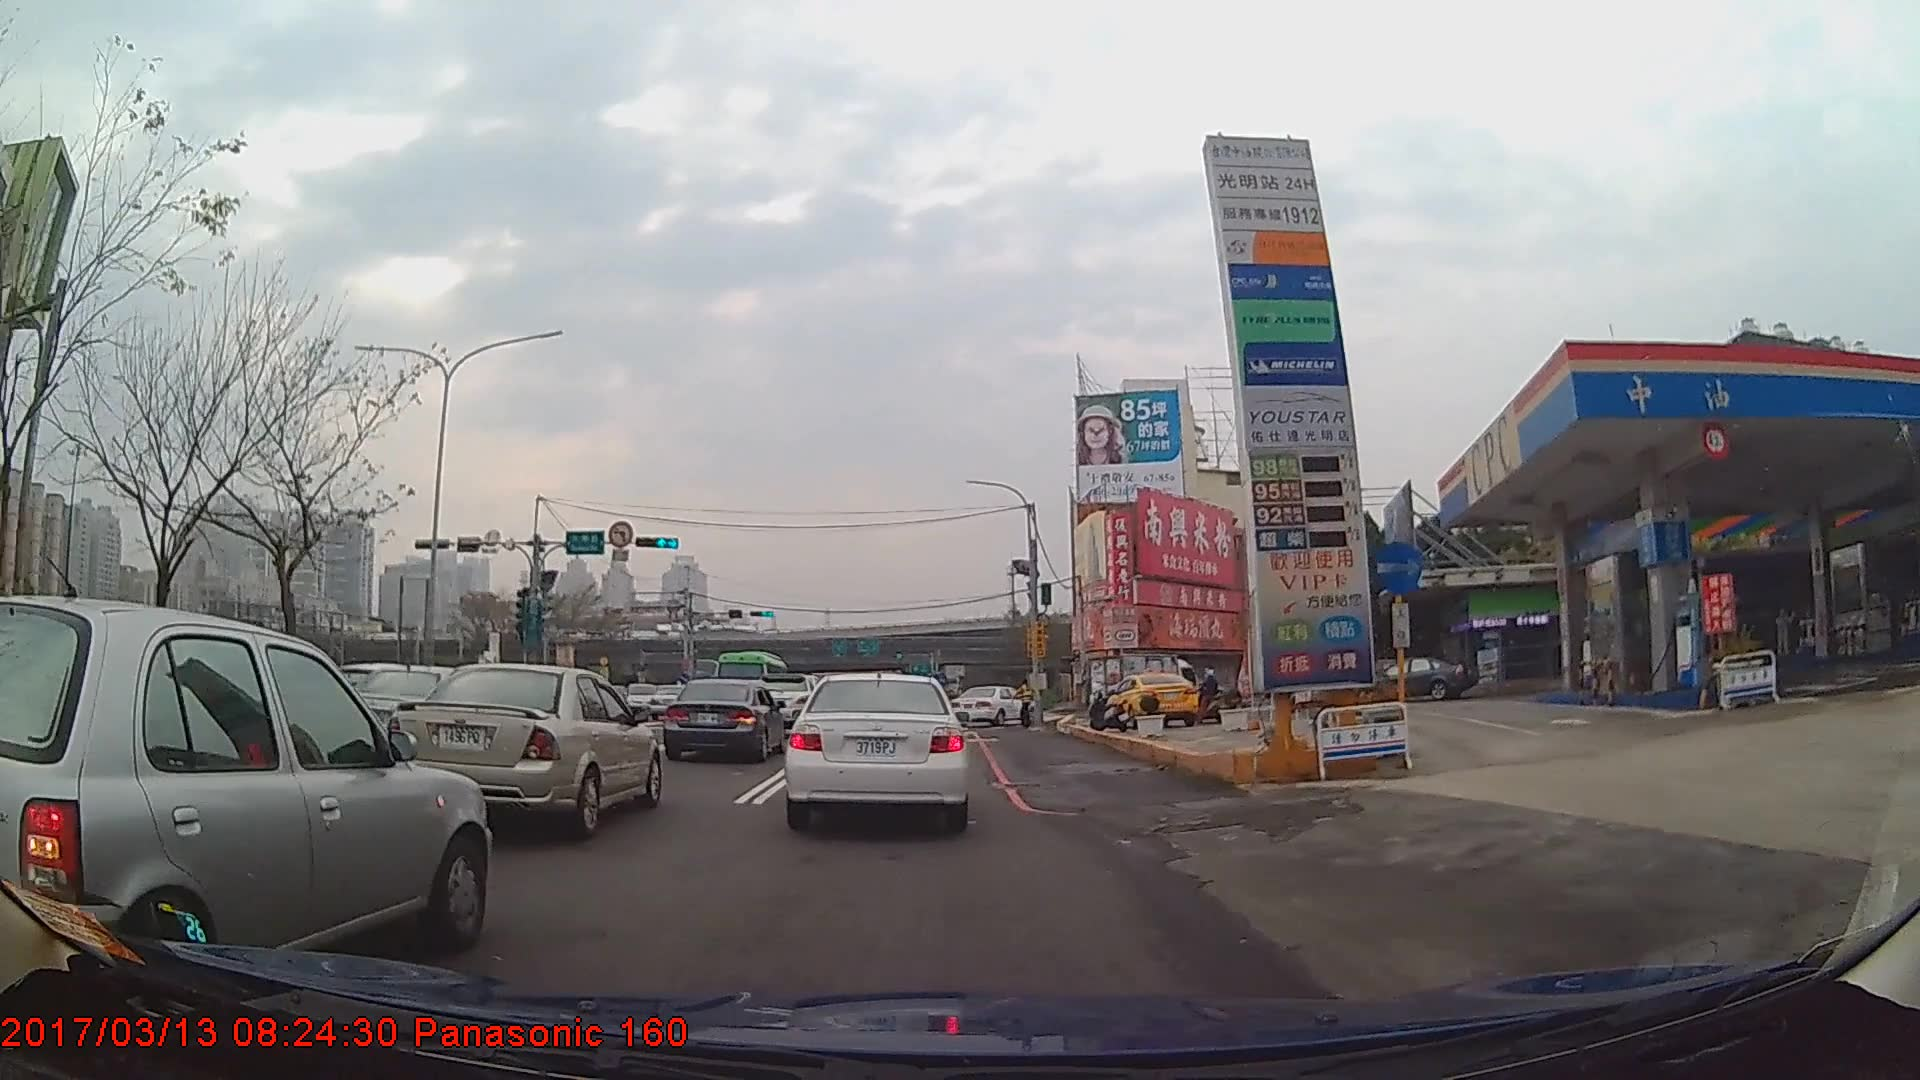rider: (1309, 660, 1348, 721), (1196, 670, 1231, 728)
vehicle: (0, 592, 491, 1001), (388, 663, 663, 836), (789, 670, 964, 830), (659, 677, 788, 766), (1087, 652, 1200, 716), (1106, 671, 1199, 727), (1367, 657, 1476, 700), (712, 651, 790, 711), (952, 685, 1037, 729)
